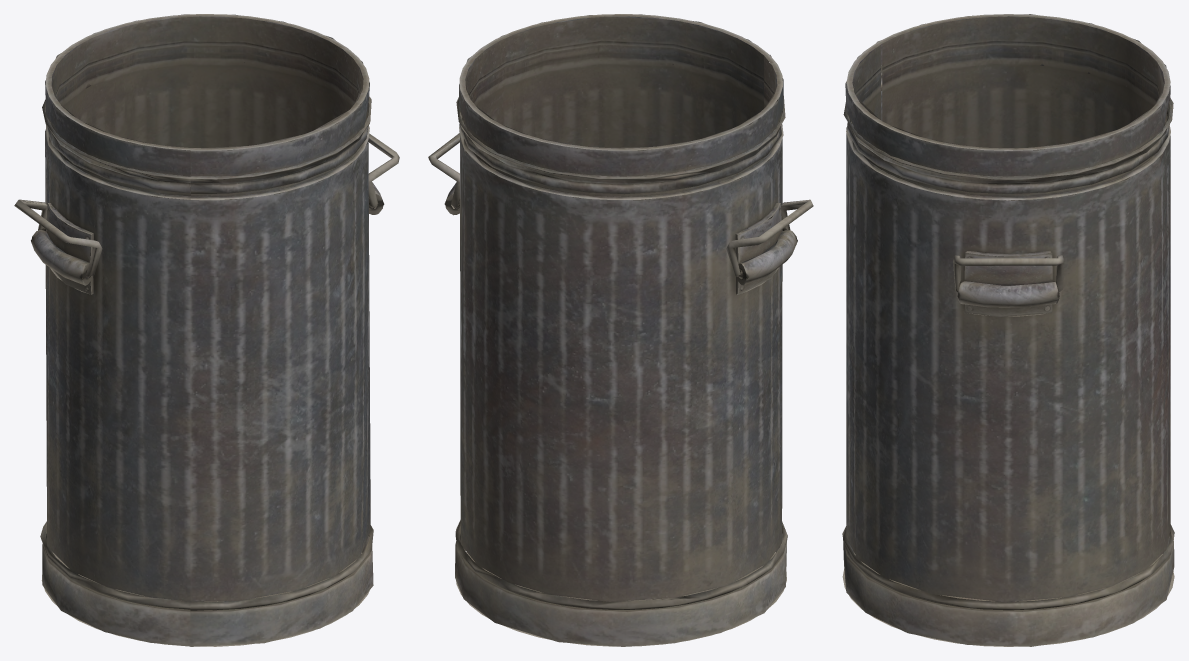
The model's file is metal_trash_can.glb.
The picture shows the model from 3 angles, left to right: view 1: azimuth 30°, elevation 25°; view 2: azimuth 150°, elevation 25°; view 3: azimuth 270°, elevation 25°; orthographic projection.
Visible parts, largest first — view 1: LOD0; view 2: LOD0; view 3: LOD0.
Boxes of the visible parts, x1,y1,x2,y2 form: LOD0: (14, 14, 399, 646); LOD0: (428, 14, 813, 646); LOD0: (842, 14, 1174, 646).
Size of the model in its own units: 0.6497 by 0.9062 by 0.5522.
Materials: 1 (1 with a texture image).
